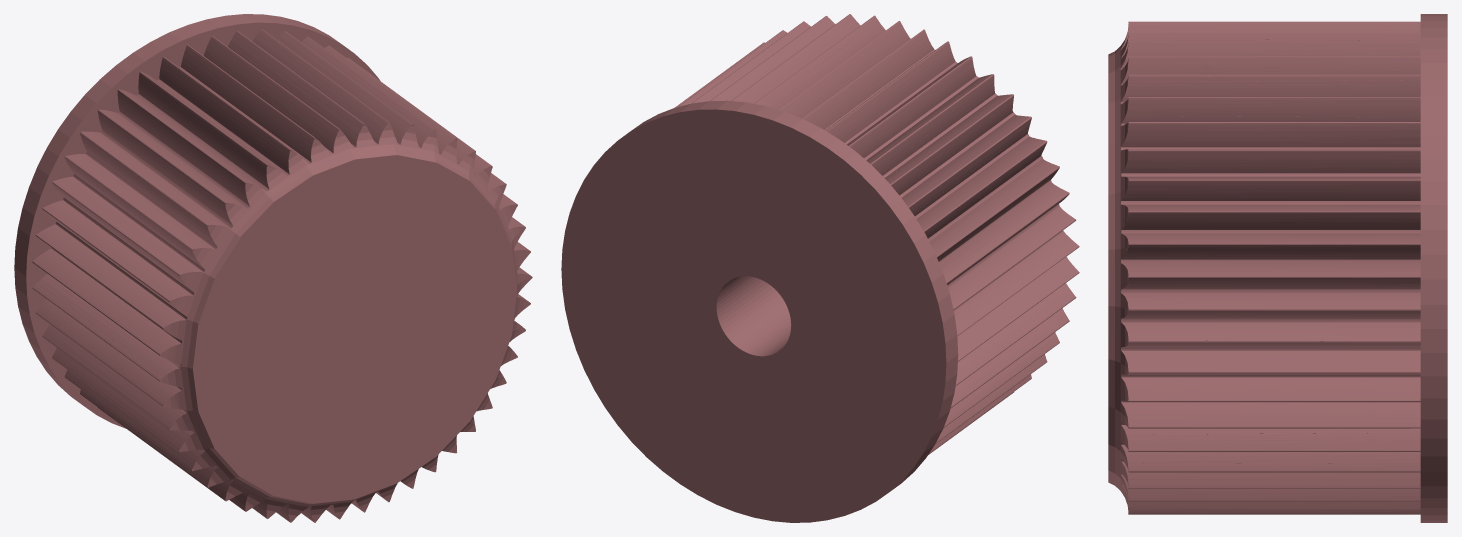
File: bigknob_rose.glb
The picture shows the model from 3 angles, left to right: view 1: azimuth 30°, elevation 25°; view 2: azimuth 150°, elevation 25°; view 3: azimuth 270°, elevation 25°; orthographic projection. The views are drawn at different scales.
Size of the model in its own units: 0.024 by 0.024 by 0.016.
